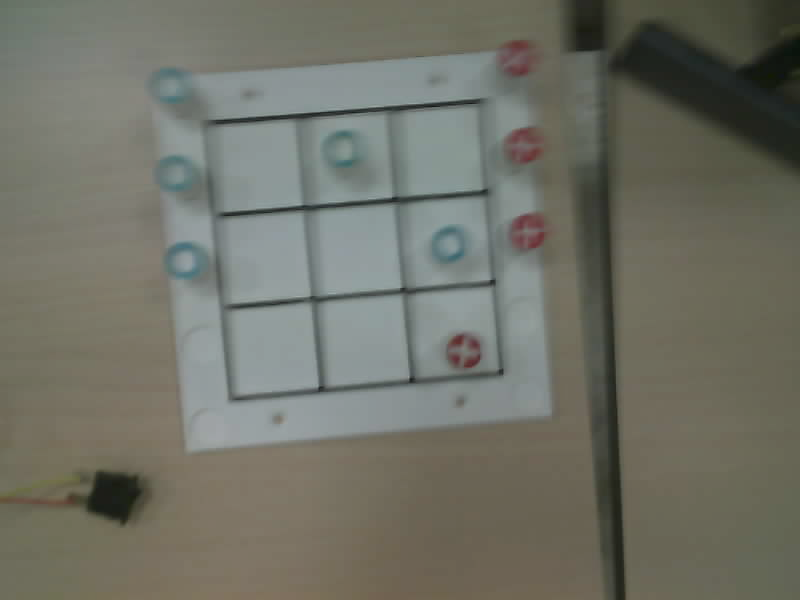blue circle: (164, 242, 208, 279), (148, 67, 191, 104), (155, 155, 197, 191), (322, 130, 362, 167), (431, 225, 465, 262)
board: (150, 42, 550, 450)
cells: (208, 120, 302, 211), (227, 302, 317, 397), (409, 286, 499, 379), (218, 212, 309, 303), (401, 196, 491, 287), (309, 205, 400, 294), (318, 295, 407, 386), (304, 113, 393, 203), (396, 106, 484, 194)
grid: (205, 99, 503, 399)
red cross: (509, 212, 546, 249), (504, 127, 542, 163), (497, 41, 536, 76), (446, 333, 480, 368)
